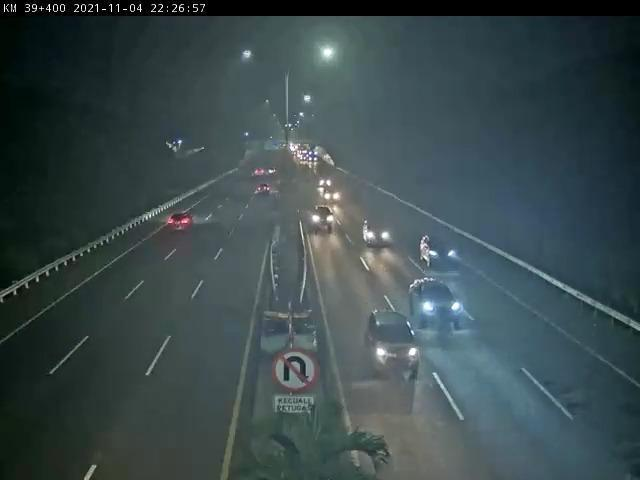car: (366, 309, 421, 379), (409, 278, 462, 330), (421, 236, 461, 271), (365, 215, 394, 247), (312, 206, 334, 232), (169, 214, 194, 234)
